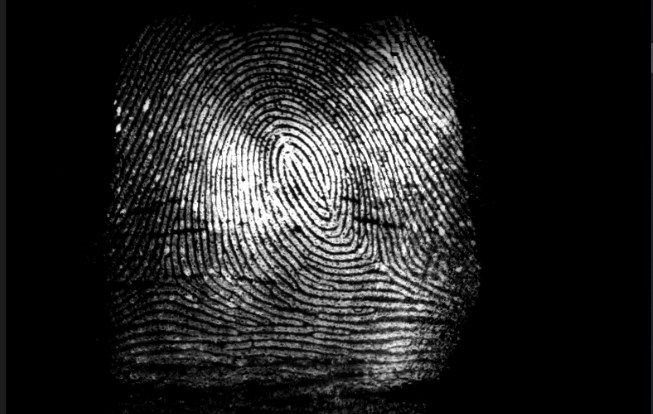deltas: (138, 236, 193, 298), (353, 232, 401, 283)
nucleo: (272, 140, 324, 201)
